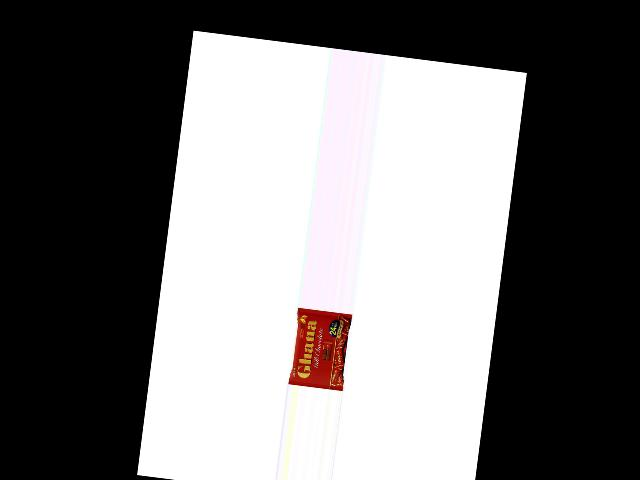chocolate: (289, 306, 354, 390)
